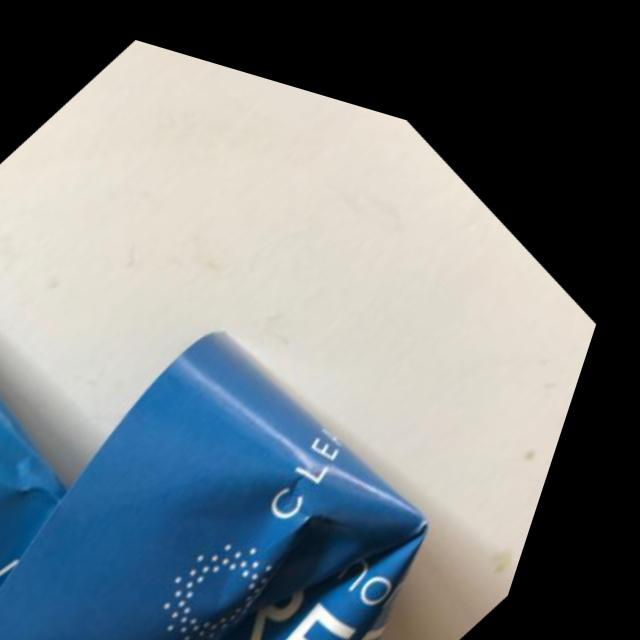paper: (0, 30, 632, 640)
